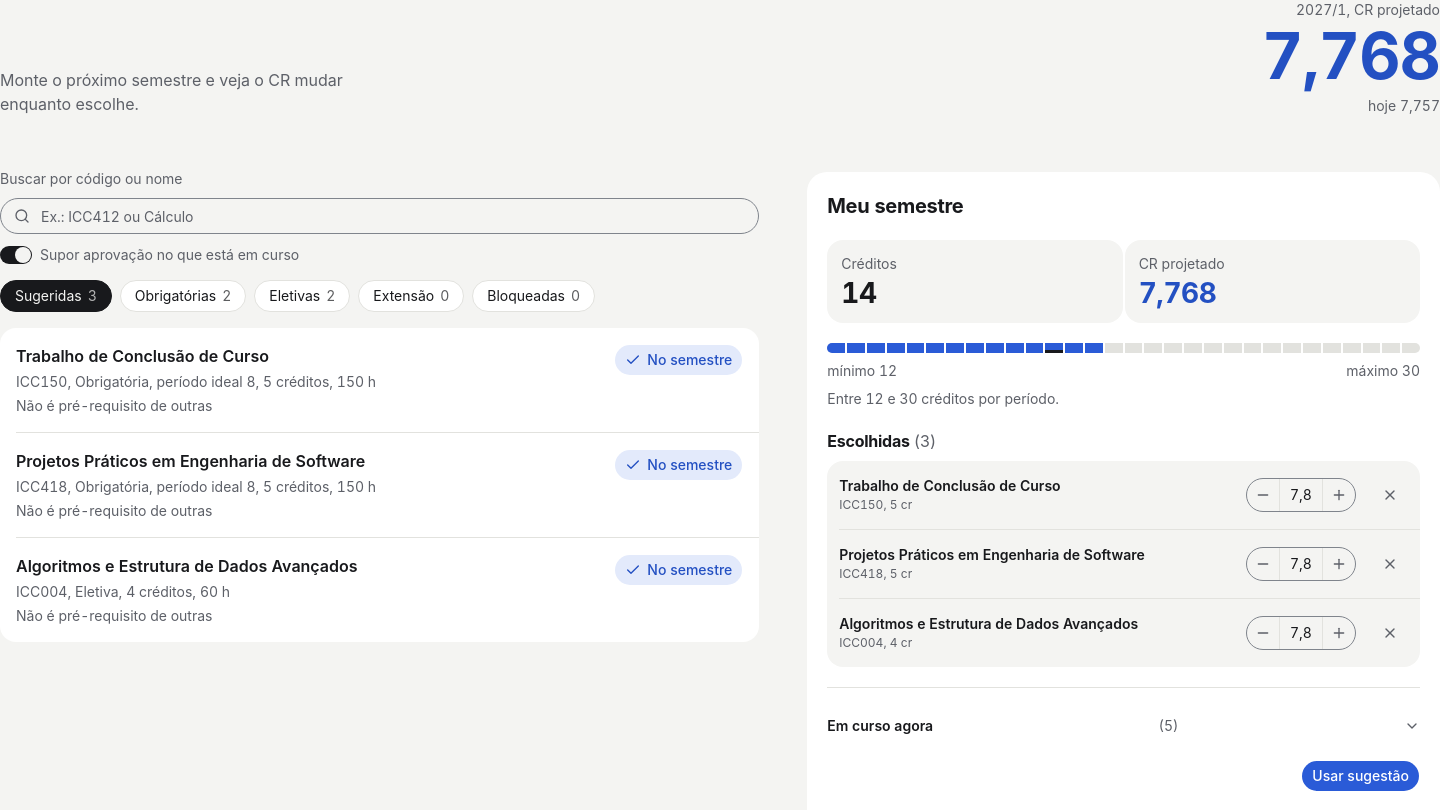
Test: PlanningScreen › adds a course from the catalog and removes it again with the same button
The image size is (1440, 810).
Click the radio button named "Eletivas,": {"x": 302, "y": 296} [254,280,350,312]
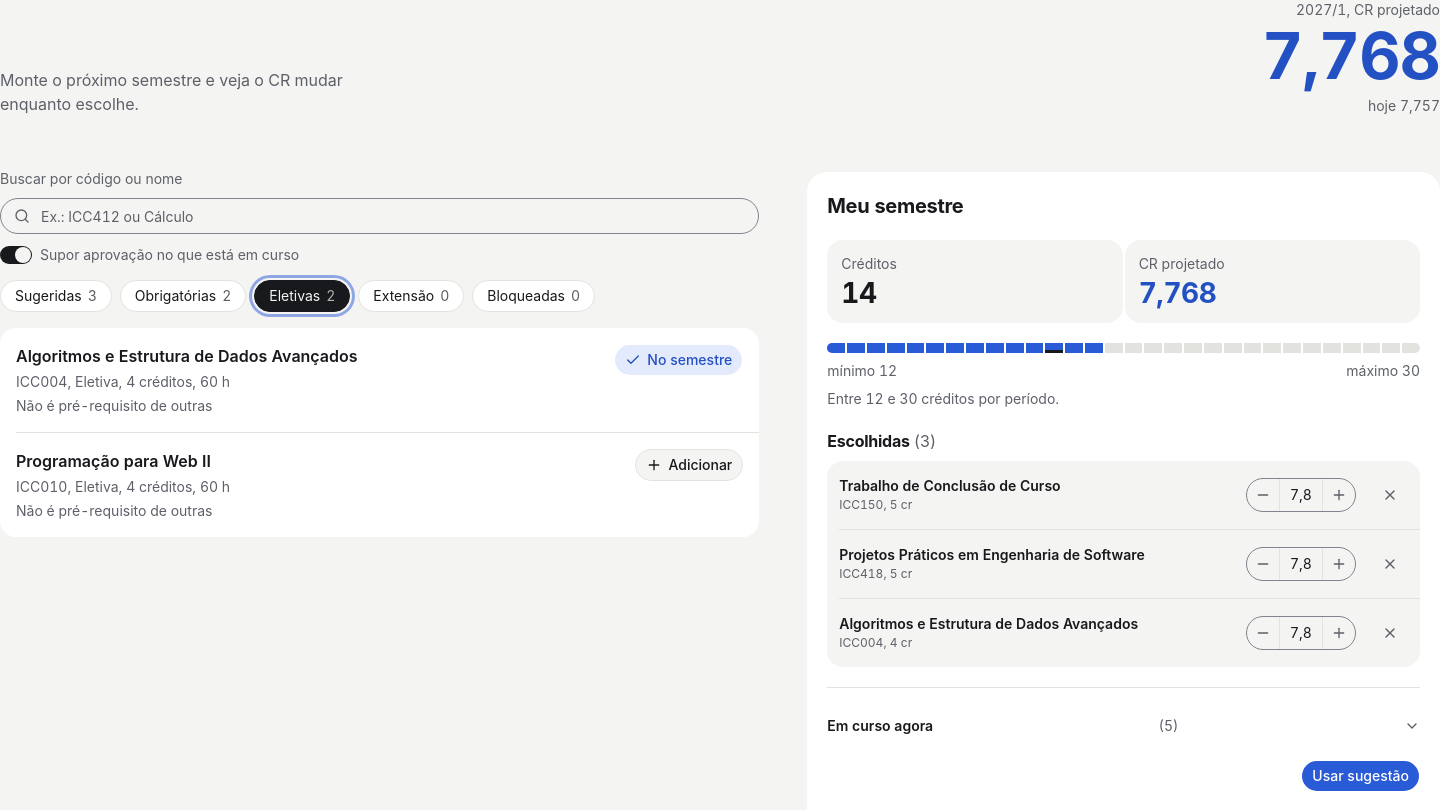
Click the button "Adicionar ": {"x": 689, "y": 465} [635,449,743,481]
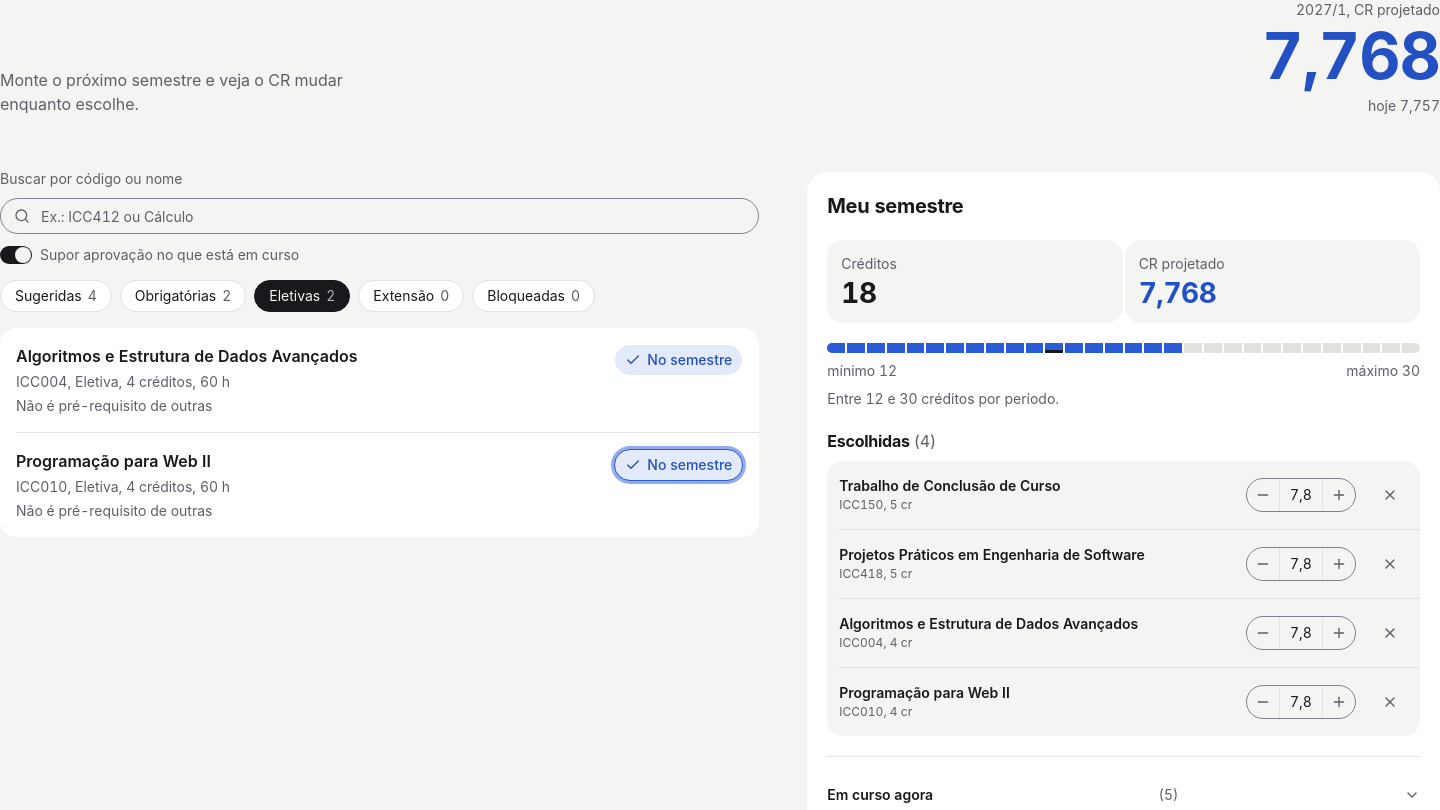
Click the 2nd button "No semestre": {"x": 679, "y": 465} [614,449,743,481]
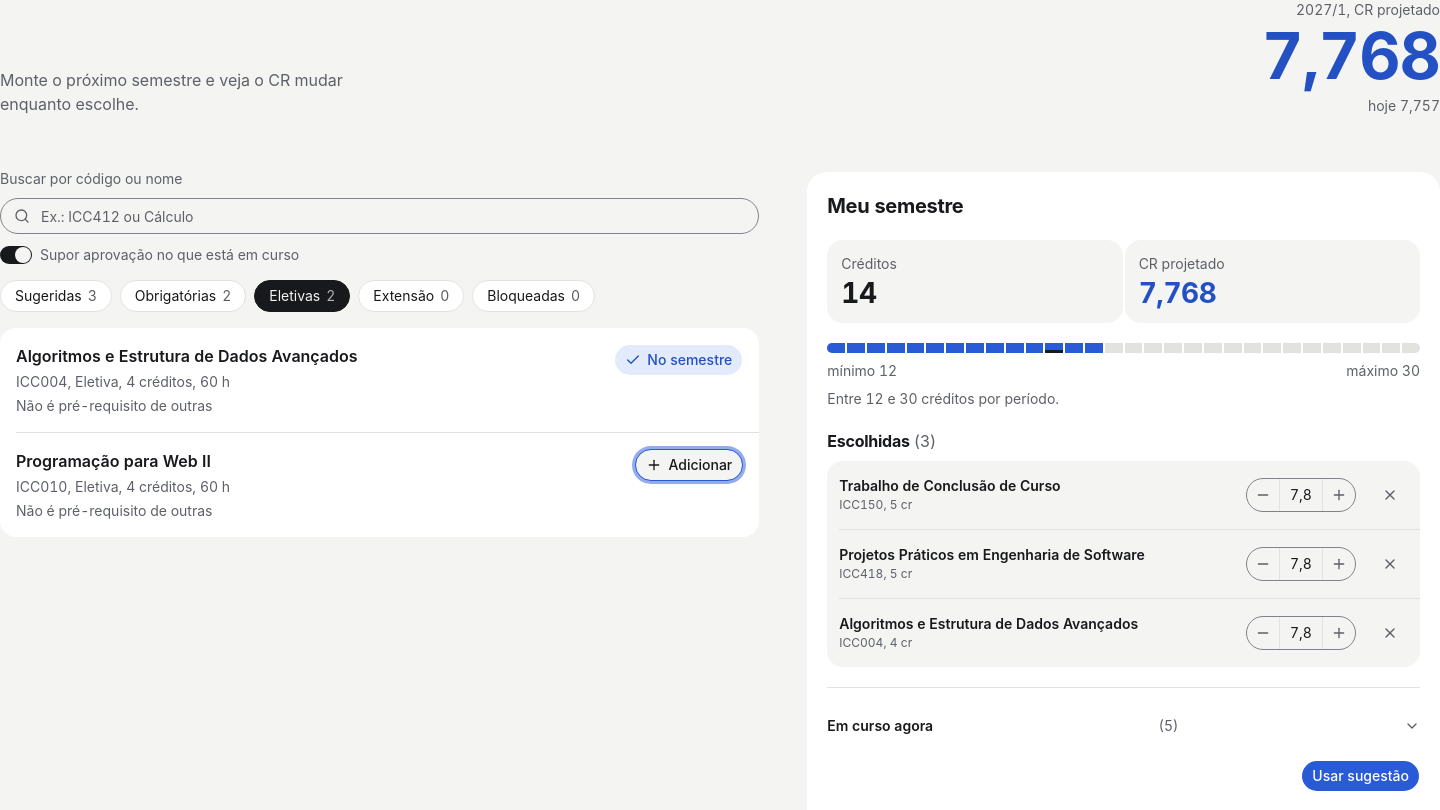
Now the button "Adicionar " is shown, box [635,449,743,481]
